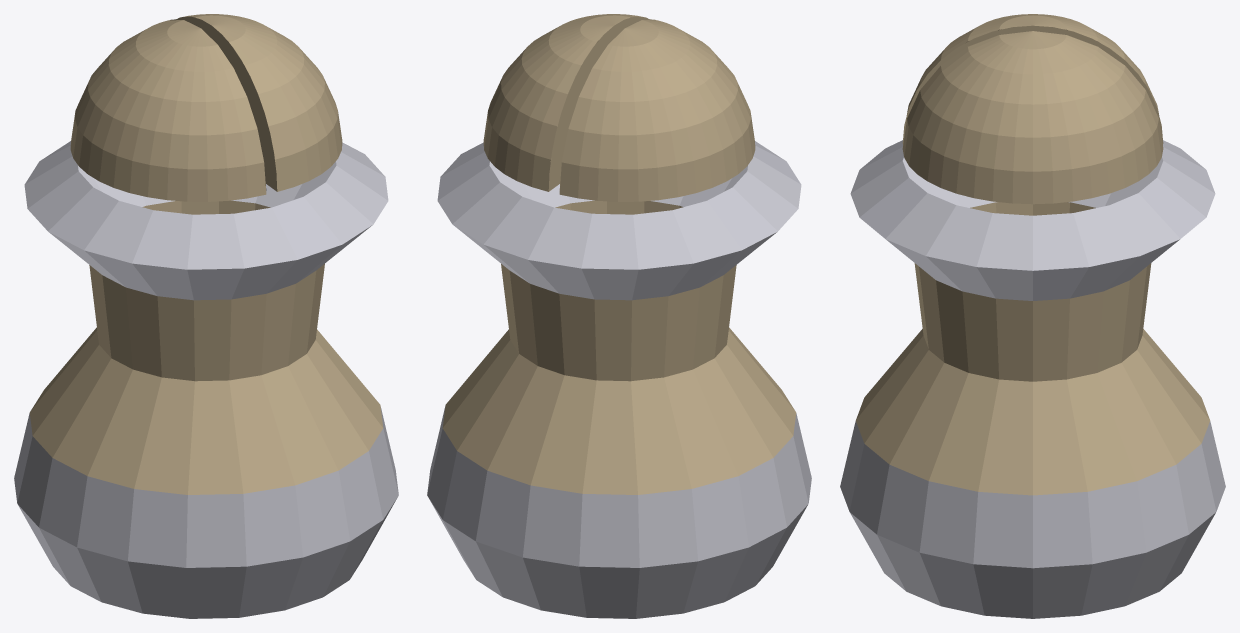
Rendered from AlienProbe.fbx.
3 renders of one model, left to right at view 1: azimuth 30°, elevation 25°; view 2: azimuth 150°, elevation 25°; view 3: azimuth 270°, elevation 25°, orthographic.
Visible parts, largest first — view 1: Probe; view 2: Probe; view 3: Probe.
Boxes of the visible parts, bbox=[...] form: Probe: bbox=[14, 14, 398, 618]; Probe: bbox=[427, 14, 811, 618]; Probe: bbox=[840, 14, 1225, 618].
Size of the model in its own units: 3.7 by 5.55 by 3.7.
